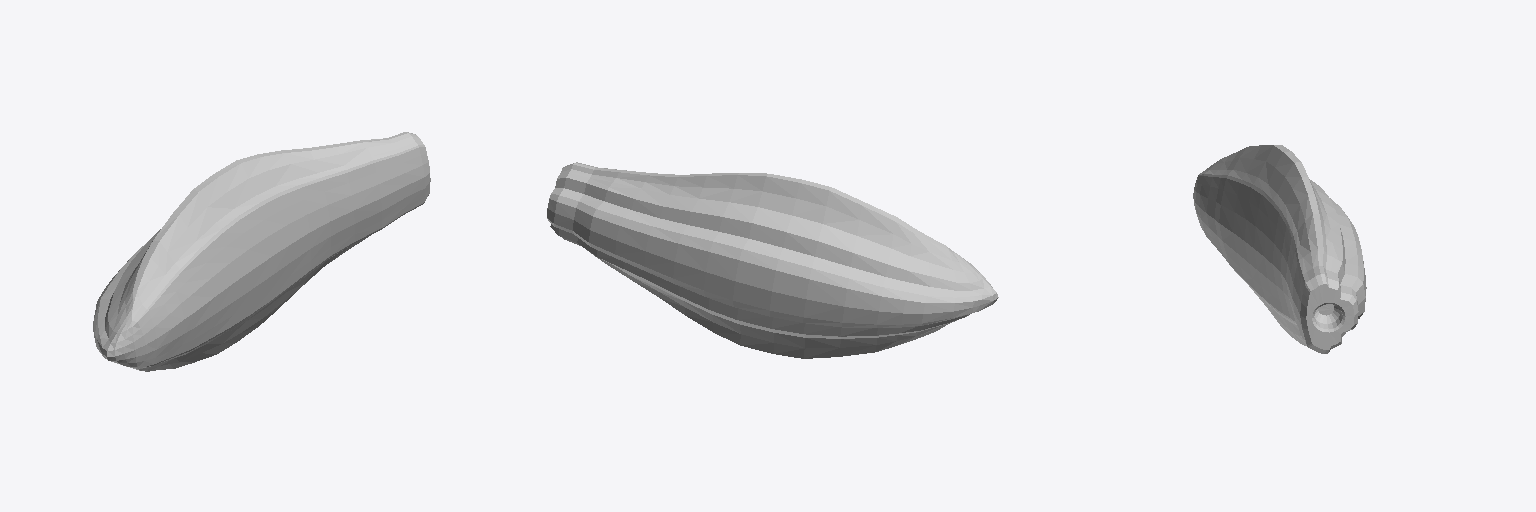
Rendered from TraseraIzquierda.obj.
3 renders of one model, left to right at view 1: azimuth 30°, elevation 25°; view 2: azimuth 150°, elevation 25°; view 3: azimuth 270°, elevation 25°, orthographic.
Visible parts, largest first — view 1: polySurface2 Mesh; view 2: polySurface2 Mesh; view 3: polySurface2 Mesh.
Part boxes in pixels (x1,y1,x2,y2): polySurface2 Mesh: (93, 132, 430, 371); polySurface2 Mesh: (547, 162, 998, 358); polySurface2 Mesh: (1193, 145, 1366, 353).
Bounding box in the file's own units: 1.37 × 0.6172 × 0.5392.